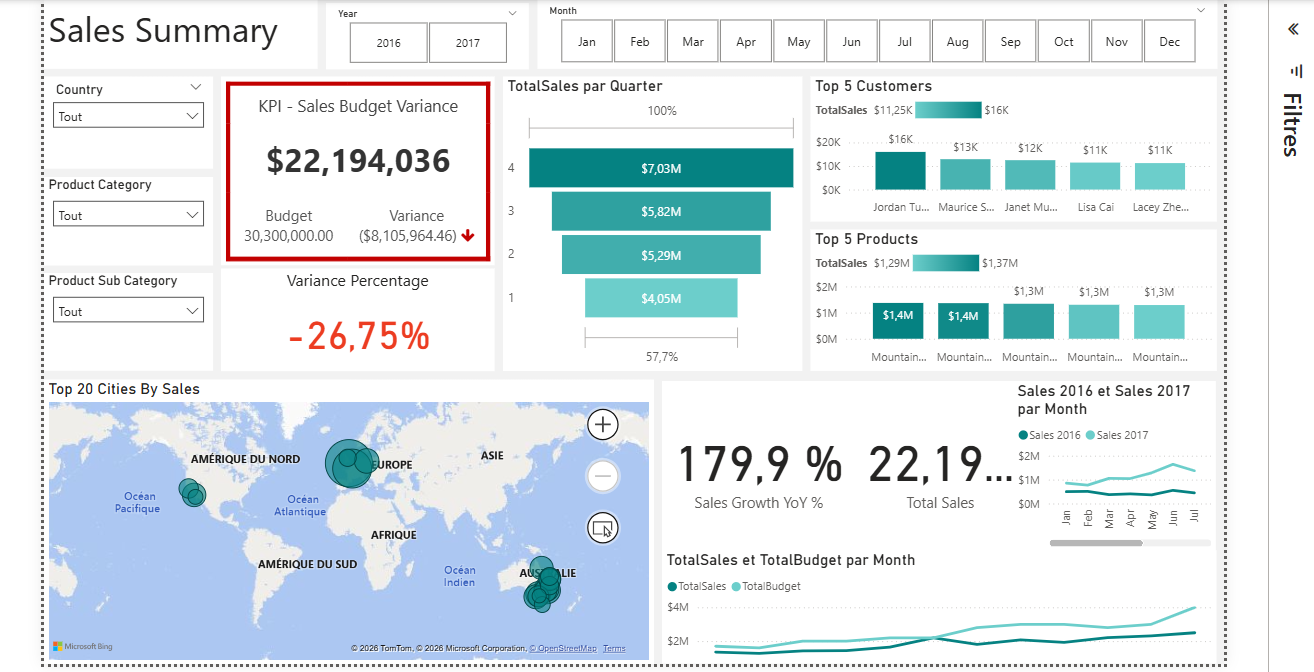

What the dashboard file says about the page in this screenshot:
{"tool":"powerbi","page":{"name":"Executive Summary","canvas":[1280,720],"ordinal":0},"visuals":[{"type":"textbox","box":[0,0,296.4,74.5],"z":0},{"type":"slicer","fields":{"Values":["Dim_Date.Year"]},"box":[305.5,2.7,220,71.8],"z":1000},{"type":"slicer","title":"Product Category","fields":{"Values":["Dim_Product.Category"]},"box":[0,191.6,183.6,95.8],"z":2000},{"type":"slicer","title":"Product Sub Category","fields":{"Values":["Dim_Product.Sub Category"]},"box":[0,296.4,183.6,105.7],"z":3000},{"type":"slicer","fields":{"Values":["Dim_Customer.Country"]},"box":[0,82.7,183.6,100],"z":4000},{"type":"BBED0A4D4D8D44CE93CF2DAFADEE466C","fields":{"actual":["Fact_Internet_Sales.TotalSales"],"target1":["Fact_Budget.TotalBudget"],"target2":["Fact_Budget.TotalVariancce"]},"box":[192.7,82.7,296.4,204.5],"z":5000},{"type":"card","title":"Variance Percentage","fields":{"Values":["Fact_Budget.VariancePct"]},"box":[192.5,291,296.4,111],"z":6000},{"type":"slicer","fields":{"Values":["Dim_Date.Month"]},"box":[534.5,0,737.3,74.5],"z":7000},{"type":"funnel","fields":{"Category":["Dim_Date.Quarter"],"Y":["Fact_Internet_Sales.TotalSales"]},"box":[498.2,82.7,324.5,319.1],"z":8000},{"type":"columnChart","title":"Top 5 Customers","fields":{"Category":["Dim_Customer.Full Name"],"Y":["Fact_Internet_Sales.TotalSales"]},"box":[830.9,82.7,440.9,157.3],"z":9000},{"type":"columnChart","title":"Top 5 Products","fields":{"Y":["Fact_Internet_Sales.TotalSales"],"Category":["Dim_Product.EnglishProductName"]},"box":[831,249,440.6,153.1],"z":10000},{"type":"map","title":"Top 20 Cities By Sales","fields":{"Category":["Dim_Customer.City"],"Size":["Fact_Internet_Sales.TotalSales"]},"box":[0,411,660.9,309],"z":11000},{"type":"lineChart","fields":{"Category":["Dim_Date.Month"],"Y":["Fact_Internet_Sales.TotalSales","Fact_Budget.TotalBudget"]},"box":[669.7,597.2,601.3,122.3],"z":12000},{"type":"card","fields":{"Values":["Fact_Internet_Sales.Sales Growth YoY %"]},"box":[669.7,412.6,209.4,184.5],"z":13000},{"type":"card","fields":{"Values":["Fact_Internet_Sales.Total Sales"]},"box":[879.1,412.6,186.6,184.5],"z":14000},{"type":"lineChart","fields":{"Category":["Dim_Date.Month"],"Y":["Fact_Internet_Sales.Sales 2016","Fact_Internet_Sales.Sales 2017"]},"box":[1051.2,412.6,219.8,184.5],"z":15000}]}

Visuals, with their boxes on the page's 1280x720 design canvas (x1, y1, x2, y2). These are canvas units, not pixel positions in the 1314x672 screenshot, which may show the page scaled, cropped or inside an application window:
textbox: <bbox>0, 0, 296, 74</bbox>
slicer - Dim_Date.Year: <bbox>306, 3, 526, 74</bbox>
"Product Category" slicer: <bbox>0, 192, 184, 287</bbox>
"Product Sub Category" slicer: <bbox>0, 296, 184, 402</bbox>
slicer - Dim_Customer.Country: <bbox>0, 83, 184, 183</bbox>
BBED0A4D4D8D44CE93CF2DAFADEE466C - Fact_Internet_Sales.TotalSales x Fact_Budget.TotalBudget: <bbox>193, 83, 489, 287</bbox>
"Variance Percentage" card: <bbox>192, 291, 489, 402</bbox>
slicer - Dim_Date.Month: <bbox>534, 0, 1272, 74</bbox>
funnel - Dim_Date.Quarter x Fact_Internet_Sales.TotalSales: <bbox>498, 83, 823, 402</bbox>
"Top 5 Customers" columnChart: <bbox>831, 83, 1272, 240</bbox>
"Top 5 Products" columnChart: <bbox>831, 249, 1272, 402</bbox>
"Top 20 Cities By Sales" map: <bbox>0, 411, 661, 720</bbox>
lineChart - Dim_Date.Month x Fact_Internet_Sales.TotalSales: <bbox>670, 597, 1271, 720</bbox>
card - Fact_Internet_Sales.Sales Growth YoY %: <bbox>670, 413, 879, 597</bbox>
card - Fact_Internet_Sales.Total Sales: <bbox>879, 413, 1066, 597</bbox>
lineChart - Dim_Date.Month x Fact_Internet_Sales.Sales 2016: <bbox>1051, 413, 1271, 597</bbox>
